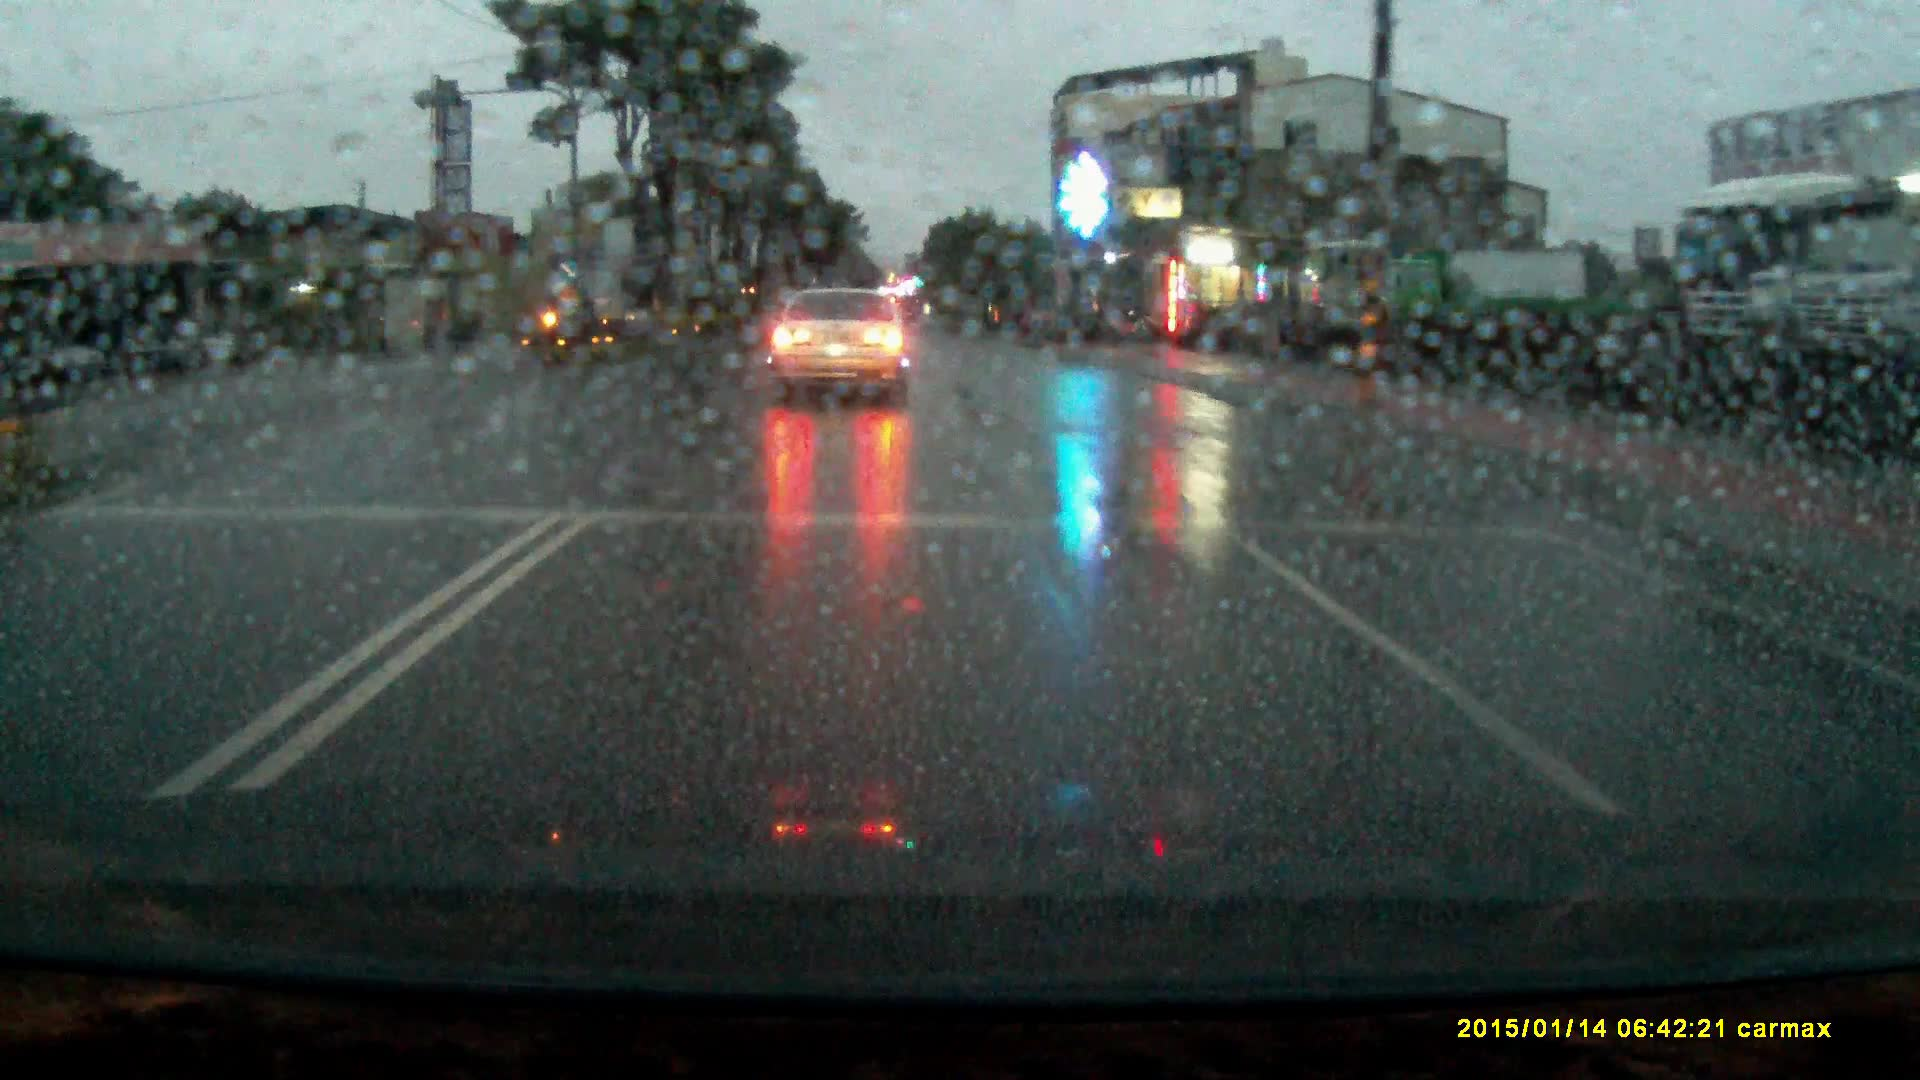vehicle: (1665, 171, 1920, 434), (1756, 208, 1920, 434), (1385, 251, 1590, 348), (771, 289, 919, 413), (1300, 235, 1406, 349), (545, 277, 609, 342)
